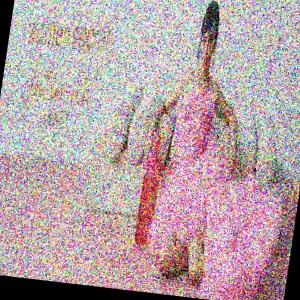women_secret: (106, 0, 126, 40)
